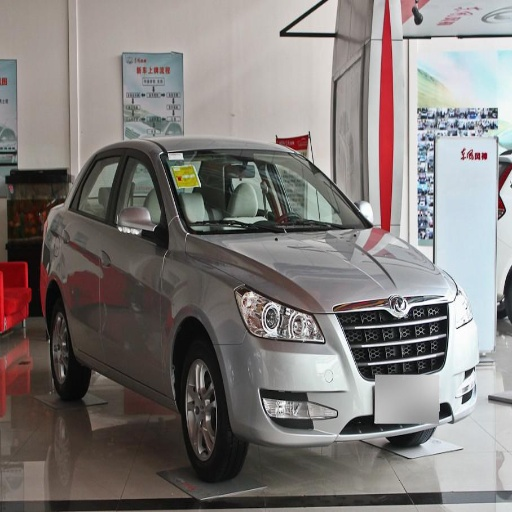front_bumper: (219, 296, 479, 447)
front_right_door: (101, 146, 170, 387)
front_right_light: (235, 286, 324, 343)
hood: (199, 228, 456, 311)
